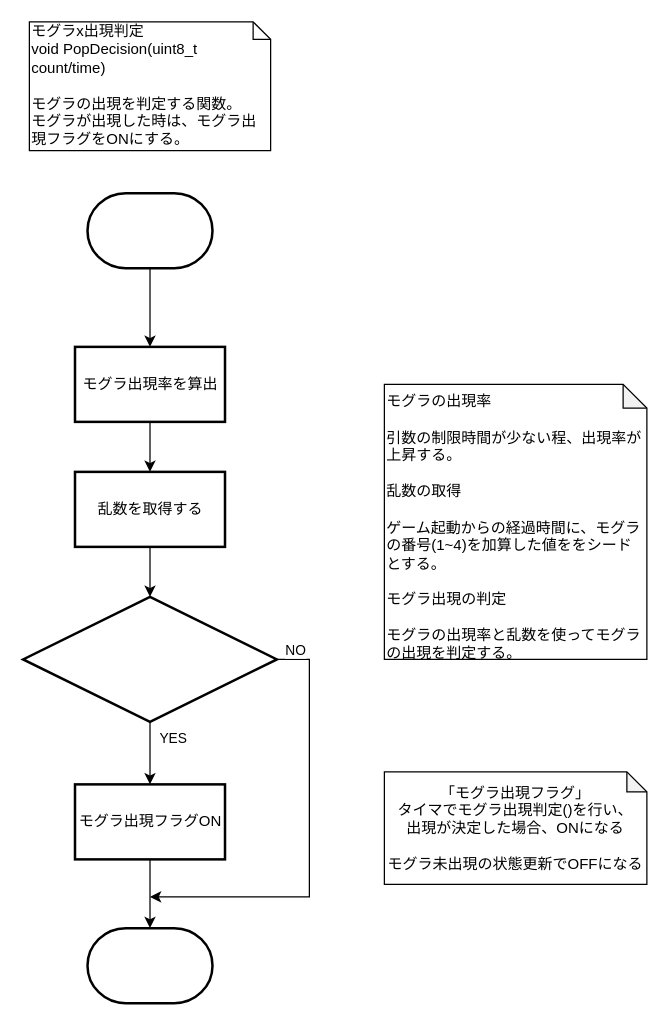
The diagram is 669 pixels wide and 1026 high, and some of its shapes have lost their labels. Each missing label, with the box of its shape:
End: (86, 926, 213, 1004)
start: (86, 191, 213, 269)
モグラは出現したか？: (21, 595, 278, 722)
